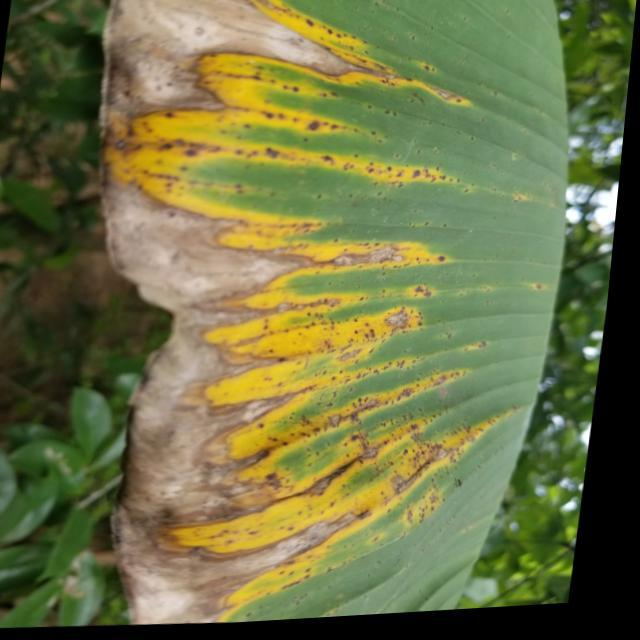Early_rust: (37, 0, 539, 630)
